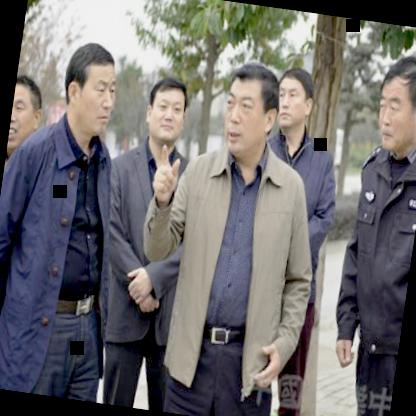head: (54, 32, 124, 146), (216, 54, 286, 164), (371, 45, 416, 158), (138, 68, 196, 154), (270, 60, 318, 137), (7, 70, 48, 152)
